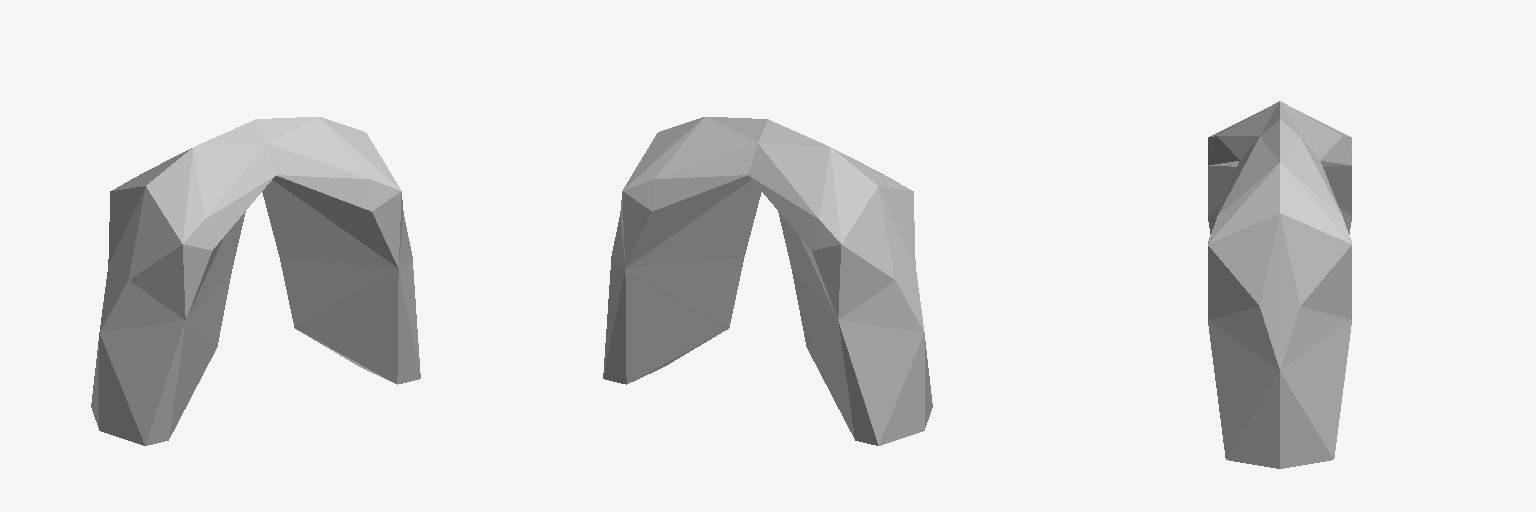
The model's file is xenon_foot_mid.obj.
The picture shows the model from 3 angles: view 1: azimuth 30°, elevation 25°; view 2: azimuth 150°, elevation 25°; view 3: azimuth 270°, elevation 25°; orthographic projection.
Parts seen in each view (by area): view 1: XenonFootMid; view 2: XenonFootMid; view 3: XenonFootMid.
Boxes of the visible parts, x1=… form: XenonFootMid: x1=91, y1=117, x2=420, y2=445; XenonFootMid: x1=603, y1=117, x2=932, y2=445; XenonFootMid: x1=1208, y1=101, x2=1351, y2=468.
Size of the model in its own units: 2 by 1.67 by 0.8.